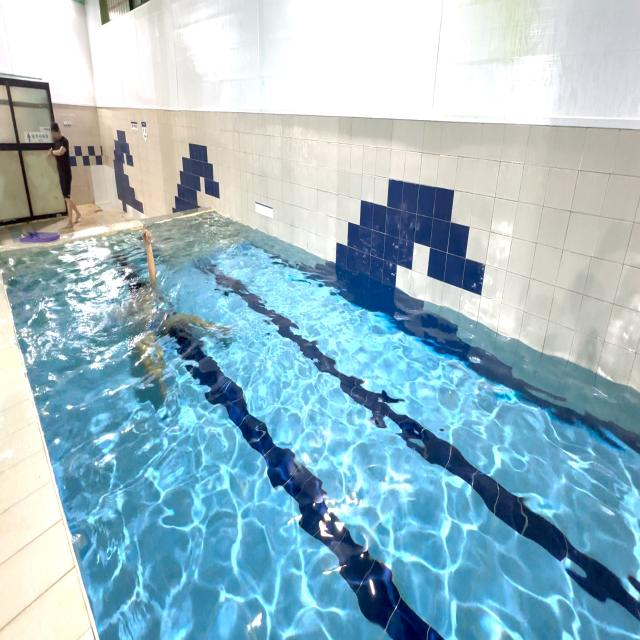Drowning: (100, 220, 220, 419)
